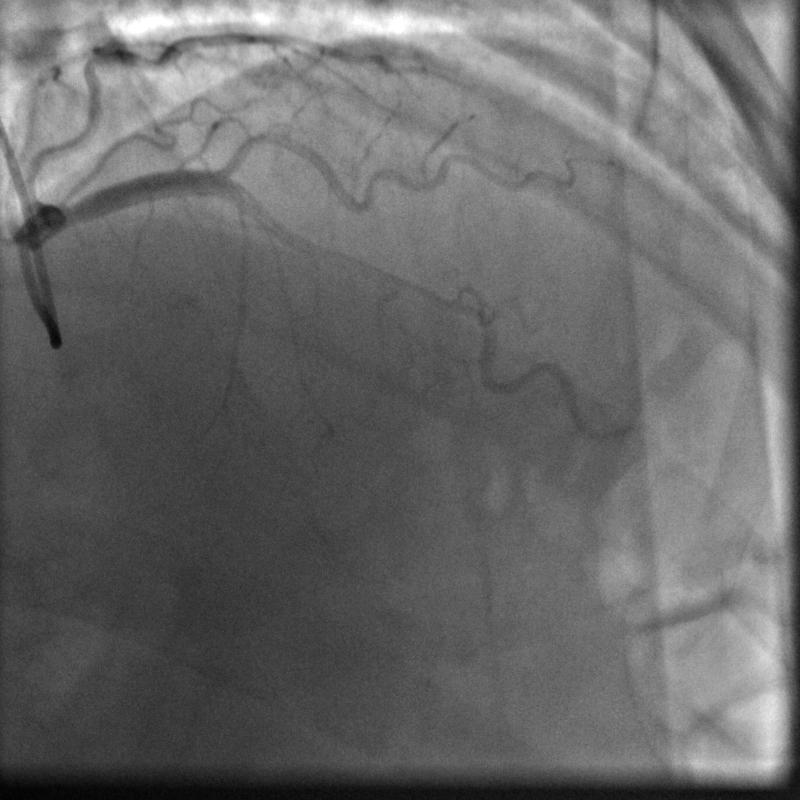Stenosis: (436, 283, 490, 328)
